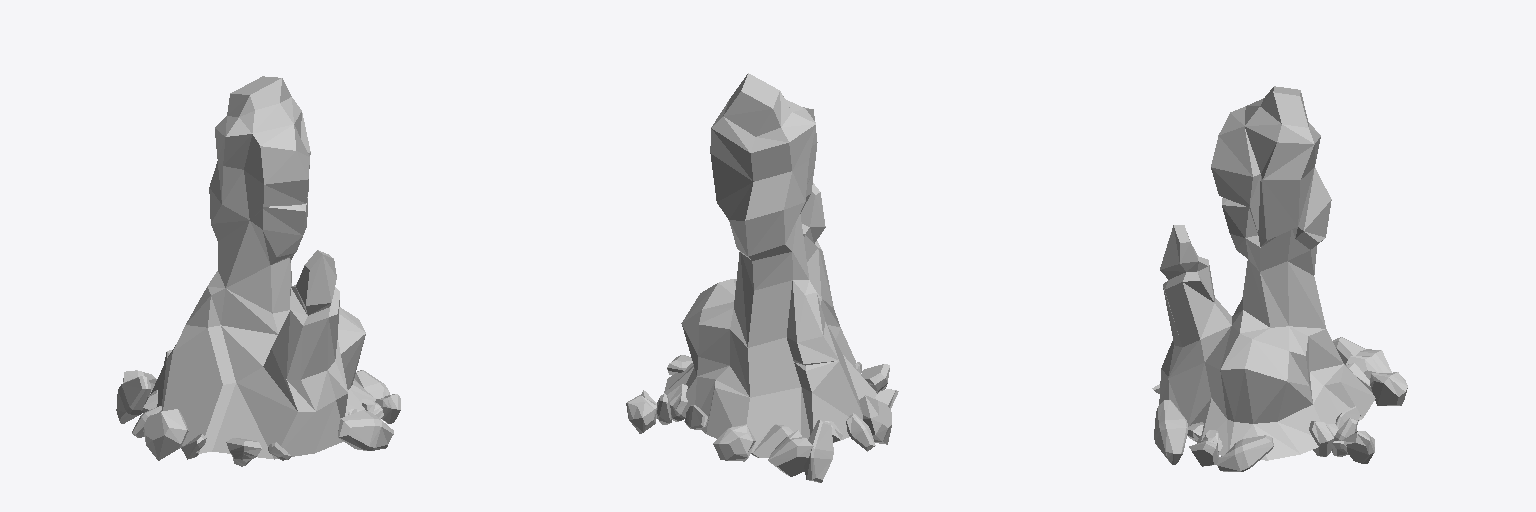
The model's file is column01.obj.
The picture shows the model from 3 angles: view 1: azimuth 30°, elevation 25°; view 2: azimuth 150°, elevation 25°; view 3: azimuth 270°, elevation 25°; orthographic projection.
Visible parts, largest first — view 1: Column01; view 2: Column01; view 3: Column01.
Part boxes in pixels (left/top/right/bottom): Column01: left=116, top=76, right=400, bottom=466; Column01: left=626, top=73, right=898, bottom=482; Column01: left=1152, top=86, right=1407, bottom=471.
Size of the model in its own units: 8.9 by 12.88 by 8.56.